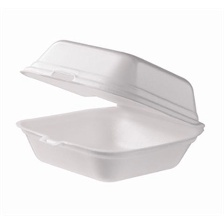foam_box: (8, 32, 209, 187)
